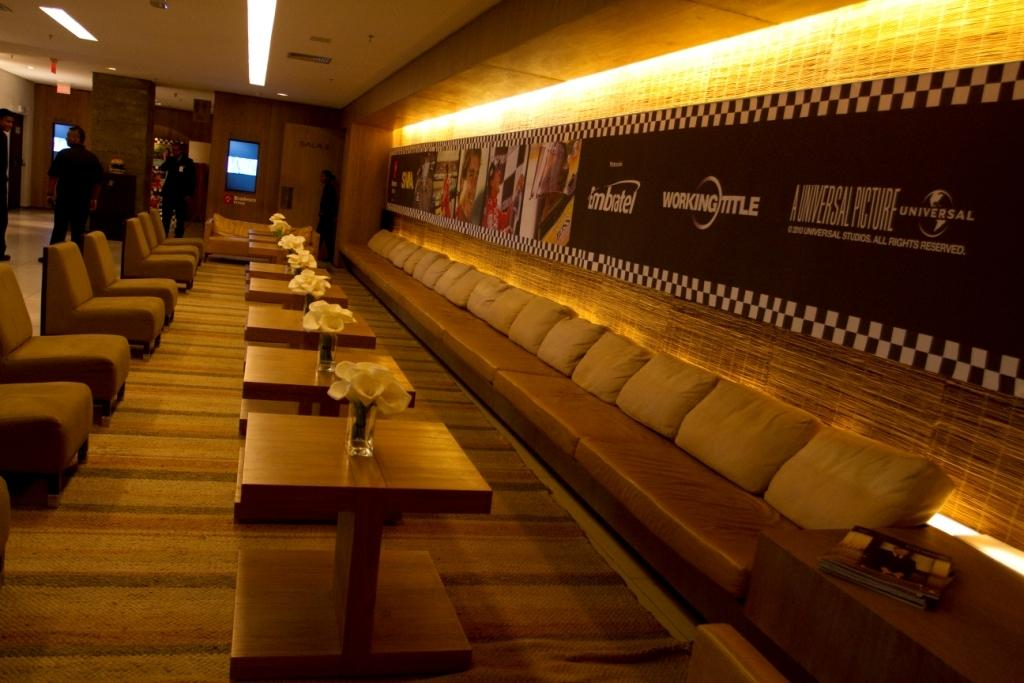Book: (817, 524, 956, 611)
Computer-monitor: (223, 135, 261, 195)
